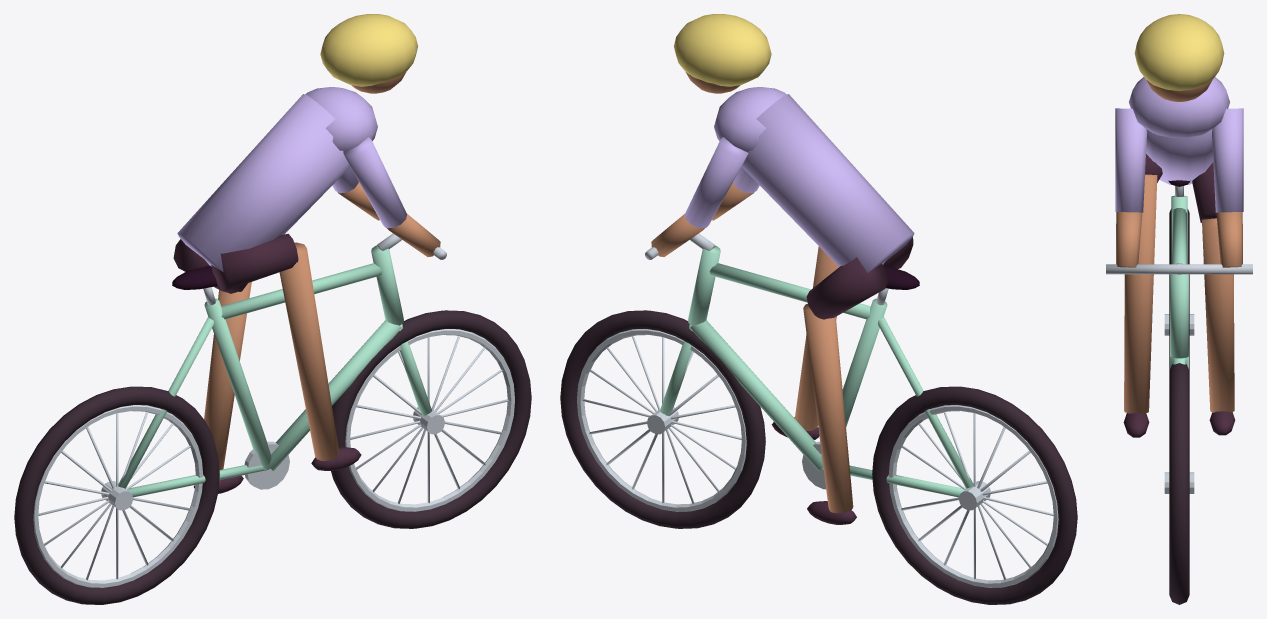
Rendered from cyclist.glb.
3 views of the same model, side by side, from view 1: azimuth 30°, elevation 25°; view 2: azimuth 150°, elevation 25°; view 3: azimuth 270°, elevation 25° (orthographic). The views are drawn at different scales.
Parts seen in each view (by area): view 1: rider, wheel_r, wheel_f, bike; view 2: rider, wheel_r, wheel_f, bike; view 3: rider, wheel_f, bike, wheel_r.
Boxes of the visible parts, x1,y1,x2,y2 form: rider: (173,14,440,493); wheel_r: (14,386,219,604); wheel_f: (331,310,531,528); bike: (118,233,446,497); rider: (651,14,914,524); wheel_r: (872,386,1077,604); wheel_f: (560,310,765,528); bike: (645,233,973,497); rider: (1115,14,1243,437); wheel_f: (1164,363,1194,604); bike: (1106,180,1252,368); wheel_r: (1164,209,1194,370).
Bounding box in the file's own units: 1.69 × 1.63 × 0.4.
